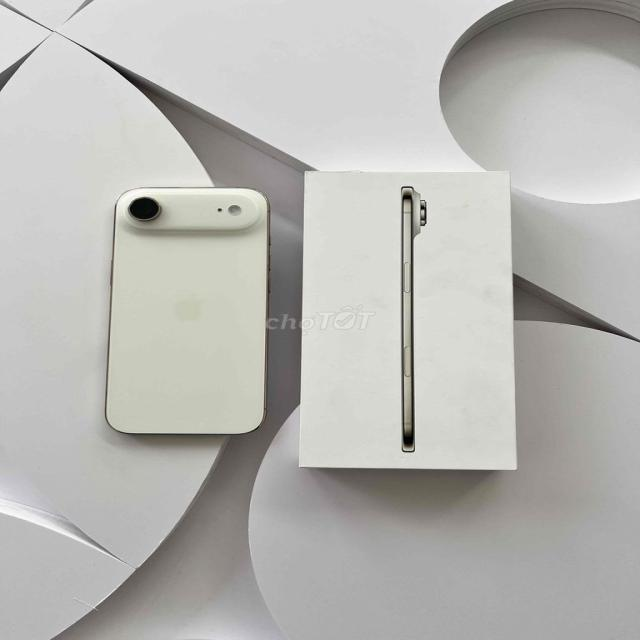gen_17: (113, 180, 277, 438)
